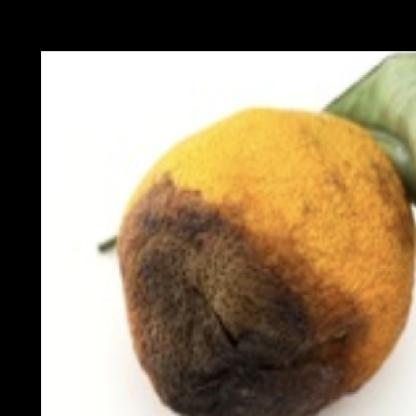rotten: (120, 103, 416, 416)
